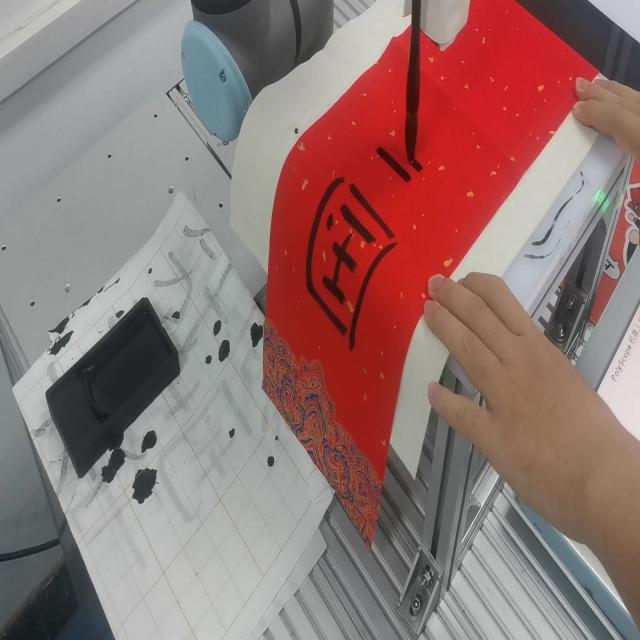head: (404, 108, 420, 168)
inkstone: (47, 290, 180, 480)
